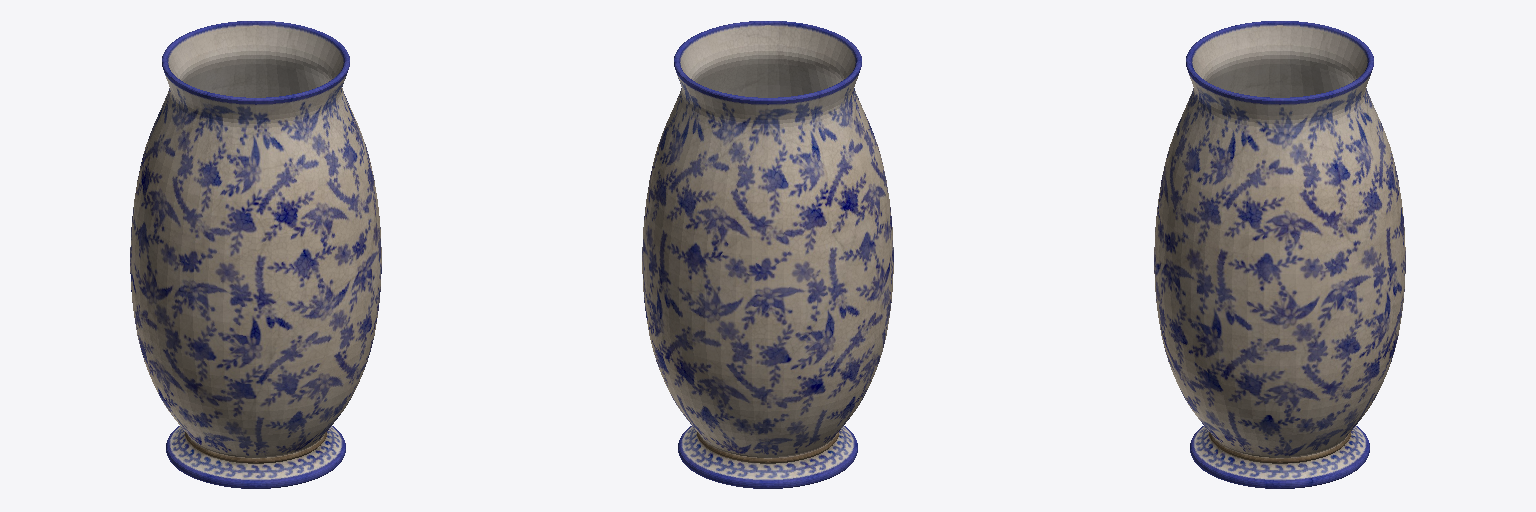
3 views of the same model, side by side, from view 1: azimuth 30°, elevation 25°; view 2: azimuth 150°, elevation 25°; view 3: azimuth 270°, elevation 25° (orthographic).
Parts seen in each view (by area): view 1: antique_ceramic_vase_01_Cylinder.006; view 2: antique_ceramic_vase_01_Cylinder.006; view 3: antique_ceramic_vase_01_Cylinder.006.
Part boxes in pixels (x1,y1,x2,y2): antique_ceramic_vase_01_Cylinder.006: (130, 21, 381, 488); antique_ceramic_vase_01_Cylinder.006: (642, 21, 893, 488); antique_ceramic_vase_01_Cylinder.006: (1154, 21, 1405, 488).
Size of the model in its own units: 0.255 by 0.4396 by 0.255.
Materials: 1 (1 with a texture image).